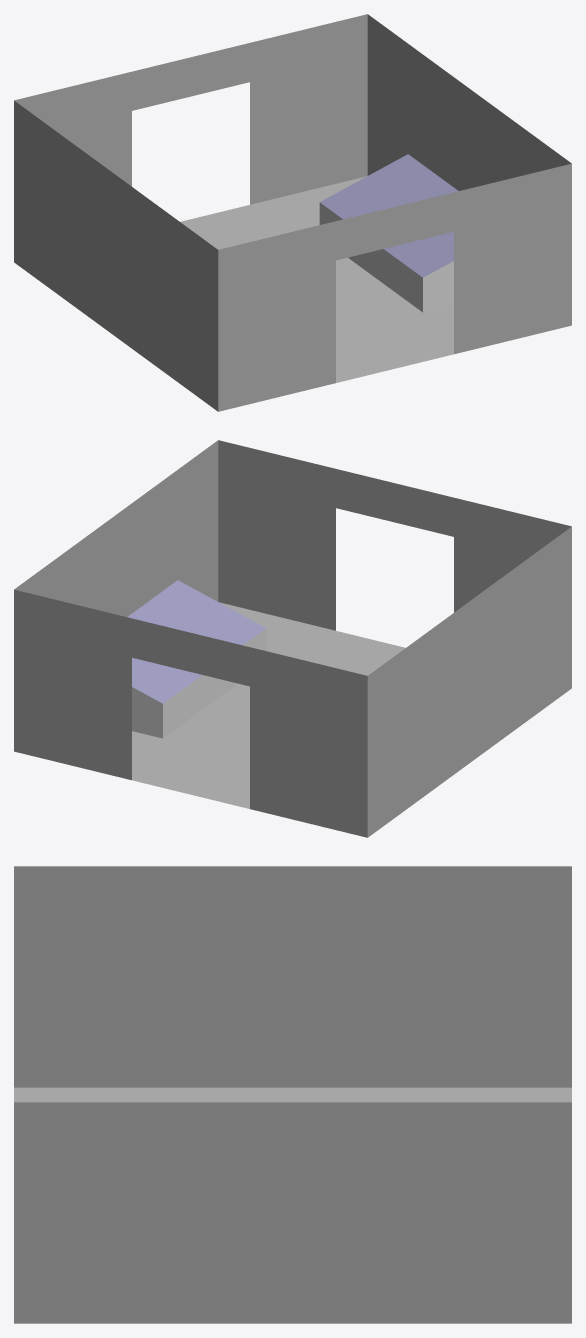
File: room.glb
The picture shows the model from 3 angles, top to bottom: view 1: azimuth 30°, elevation 25°; view 2: azimuth 150°, elevation 25°; view 3: azimuth 270°, elevation 25°; orthographic projection. The views are drawn at different scales.
Visible parts, largest first — view 1: Room; view 2: Room; view 3: Room.
Boxes of the visible parts, x1,y1,x2,y2 form: Room: (14, 14, 571, 411); Room: (14, 440, 571, 837); Room: (14, 866, 571, 1323).
Bounding box in the file's own units: 8 × 3.5 × 8.
